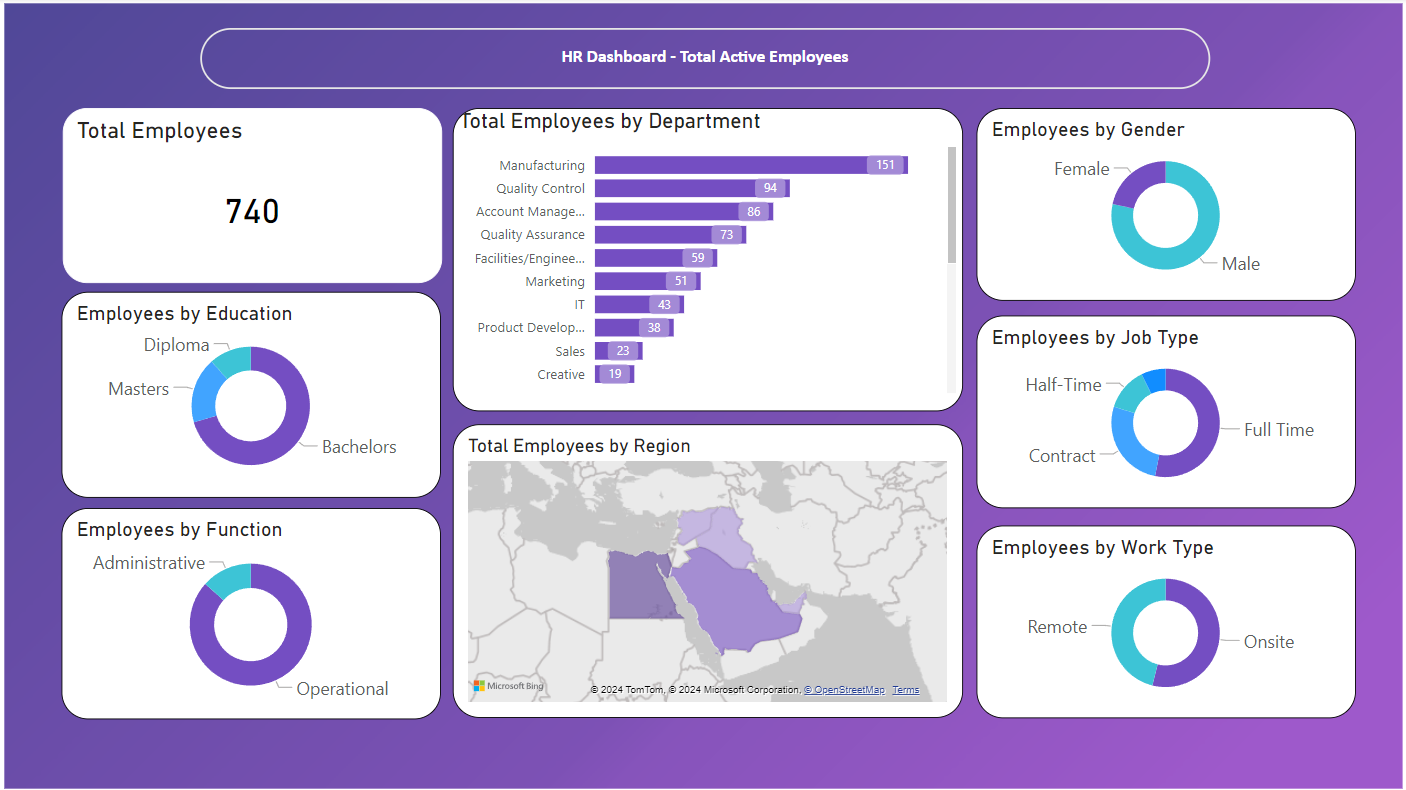

What the dashboard file says about the page in this screenshot:
{"tool":"powerbi","page":{"name":"Dashboard_1","canvas":[1280,720],"ordinal":0},"visuals":[{"type":"image","title":"Total Employees by de","box":[0,0,1274.3,720],"z":0},{"type":"textbox","box":[182.5,27.6,913.8,55.2],"z":1000},{"type":"card","title":"Total Employees","fields":{"Values":["CountNonNull(Employees.EmployeeID)"]},"box":[57.1,100,342.9,158.6],"z":2000},{"type":"donutChart","title":"Employees by Education","fields":{"Category":["Employees.Education"],"Y":["Count(Employees.EmployeeID)"]},"box":[56.7,265.5,343.1,186.5],"z":3000},{"type":"donutChart","title":"Employees by Function","fields":{"Y":["Count(Employees.EmployeeID)"],"Category":["Employees.Function"]},"box":[56.7,461,343.1,191],"z":4000},{"type":"barChart","title":"        Total Employees by Department","fields":{"Y":["CountNonNull(Employees.EmployeeID)"],"Category":["Department.Department"]},"box":[410,100,461.4,274.3],"z":5000},{"type":"filledMap","title":"Total Employees by Region","fields":{"Category":["Country.Country"]},"box":[410,385.7,461.4,265.7],"z":6000},{"type":"donutChart","title":"Employees by Gender","fields":{"Y":["Count(Employees.EmployeeID)"],"Category":["Employees.Gender"]},"box":[884.3,100,342.9,174.3],"z":7000},{"type":"donutChart","title":"Employees by Job Type","fields":{"Y":["Count(Employees.EmployeeID)"],"Category":["Employees.Status"]},"box":[884.3,287.1,342.9,174.3],"z":8000},{"type":"donutChart","title":"Employees by  Work Type","fields":{"Y":["Count(Employees.EmployeeID)"],"Category":["Employees.Work type"]},"box":[884.3,477.1,342.9,174.3],"z":9000}]}

Visuals, with their boxes in screenshot pixels (x1, y1, x2, y2), scaled from the page's 1280x720 canvas onto the 1406x790 screenshot:
"Total Employees by de" image: (0,0,1400,789)
textbox: (200,30,1204,91)
"Total Employees" card: (63,110,439,284)
"Employees by Education" donutChart: (62,291,439,496)
"Employees by Function" donutChart: (62,506,439,715)
"        Total Employees by Department" barChart: (450,110,957,411)
"Total Employees by Region" filledMap: (450,423,957,715)
"Employees by Gender" donutChart: (971,110,1348,301)
"Employees by Job Type" donutChart: (971,315,1348,506)
"Employees by  Work Type" donutChart: (971,523,1348,715)
